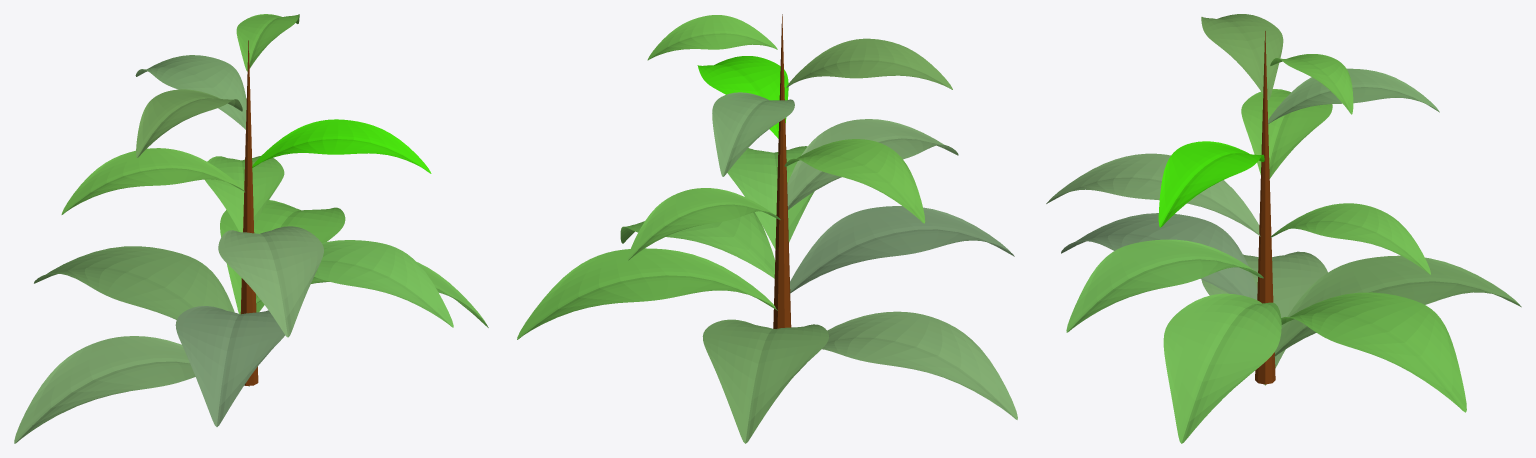
The model's file is 식물애니메이션.fbx.
3 renders of one model, left to right at view 1: azimuth 30°, elevation 25°; view 2: azimuth 150°, elevation 25°; view 3: azimuth 270°, elevation 25°, orthographic. The views are drawn at different scales.
Parts seen in each view (by area): view 1: Circle, Circle.001, Circle.010, Circle.004, Circle.003, Circle.008, Circle.012, Circle.006, Circle.002, Circle.011, Circle.013, Circle.009 (+2 smaller); view 2: Circle.002, Circle, Circle.001, Circle.010, Circle.008, Circle.013, Circle.004, Circle.011, Circle.006, Circle.003, Circle.007, Circle.009 (+2 smaller); view 3: Circle.007, Circle.002, Circle.001, Circle.003, Circle.010, Circle.004, Circle.012, Circle.011, Circle.013, Circle.008, Circle.006, Circle.009 (+2 smaller).
Boxes of the visible parts, box(x1,y1,x2,y2) form: Circle: box(14, 336, 249, 443); Circle.001: box(34, 246, 234, 319); Circle.010: box(175, 306, 285, 426); Circle.004: box(218, 226, 323, 337); Circle.003: box(314, 240, 453, 327); Circle.008: box(61, 148, 244, 214); Circle.012: box(252, 119, 431, 173); Circle.006: box(135, 55, 246, 129); Circle.002: box(220, 200, 345, 314); Circle.011: box(205, 156, 284, 232); Circle.013: box(136, 89, 242, 157); Circle.009: box(240, 40, 258, 385); Circle.002: box(517, 248, 777, 339); Circle: box(822, 311, 1017, 419); Circle.001: box(702, 319, 828, 443); Circle.010: box(790, 206, 1014, 293); Circle.008: box(784, 139, 925, 223); Circle.013: box(786, 38, 952, 89); Circle.004: box(787, 119, 958, 209); Circle.011: box(628, 188, 780, 260); Circle.006: box(712, 92, 794, 176); Circle.003: box(727, 146, 814, 249); Circle.007: box(620, 212, 775, 278); Circle.009: box(773, 14, 791, 328); Circle.007: box(1163, 293, 1281, 443); Circle.002: box(1281, 292, 1466, 412); Circle.001: box(1274, 255, 1521, 356); Circle.003: box(1066, 239, 1263, 332); Circle.010: box(1061, 213, 1257, 299); Circle.004: box(1046, 153, 1260, 236); Circle.012: box(1158, 141, 1264, 227); Circle.011: box(1270, 203, 1430, 274); Circle.013: box(1201, 14, 1283, 100); Circle.008: box(1241, 89, 1332, 178); Circle.006: box(1268, 68, 1439, 124); Circle.009: box(1255, 31, 1275, 384).
Bounding box in the file's own units: 939 × 718 × 873.
